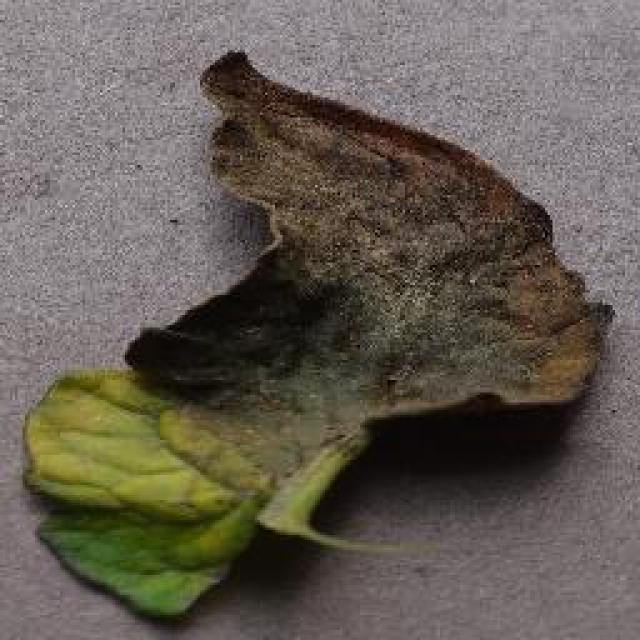Tomato late blight leaf: (28, 44, 615, 618)
